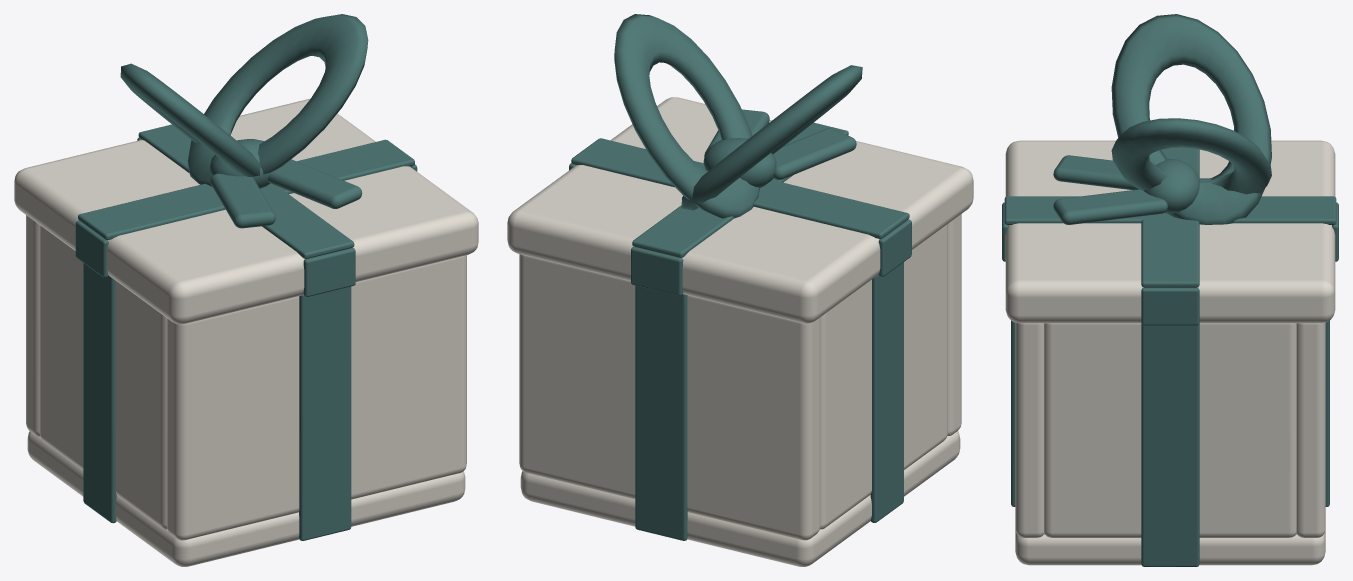
The model's file is gift-snow-2.glb.
The picture shows the model from 3 angles, left to right: view 1: azimuth 30°, elevation 25°; view 2: azimuth 150°, elevation 25°; view 3: azimuth 270°, elevation 25°; orthographic projection.
Parts seen in each view (by area): view 1: Gift_Body, Gift_Lid, Gift_Bow_Loop_R, Gift_Bow, Gift_Bow_Loop_L; view 2: Gift_Body, Gift_Lid, Gift_Bow_Loop_R, Gift_Bow_Loop_L, Gift_Bow; view 3: Gift_Body, Gift_Lid, Gift_Bow_Loop_L, Gift_Bow_Loop_R, Gift_Bow.
Boxes of the visible parts, x1,y1,x2,y2 form: Gift_Body: [26, 215, 466, 566]; Gift_Lid: [14, 98, 478, 324]; Gift_Bow_Loop_R: [187, 14, 368, 186]; Gift_Bow: [209, 139, 362, 228]; Gift_Bow_Loop_L: [120, 63, 260, 176]; Gift_Body: [519, 214, 961, 566]; Gift_Lid: [507, 97, 973, 323]; Gift_Bow_Loop_R: [614, 14, 759, 218]; Gift_Bow_Loop_L: [681, 65, 862, 210]; Gift_Bow: [703, 109, 856, 188]; Gift_Body: [1011, 320, 1329, 566]; Gift_Lid: [1002, 140, 1338, 325]; Gift_Bow_Loop_L: [1111, 14, 1271, 224]; Gift_Bow_Loop_R: [1111, 118, 1271, 194]; Gift_Bow: [1053, 155, 1200, 224].
Bounding box in the file's own units: 0.928 × 1.23 × 0.868.
